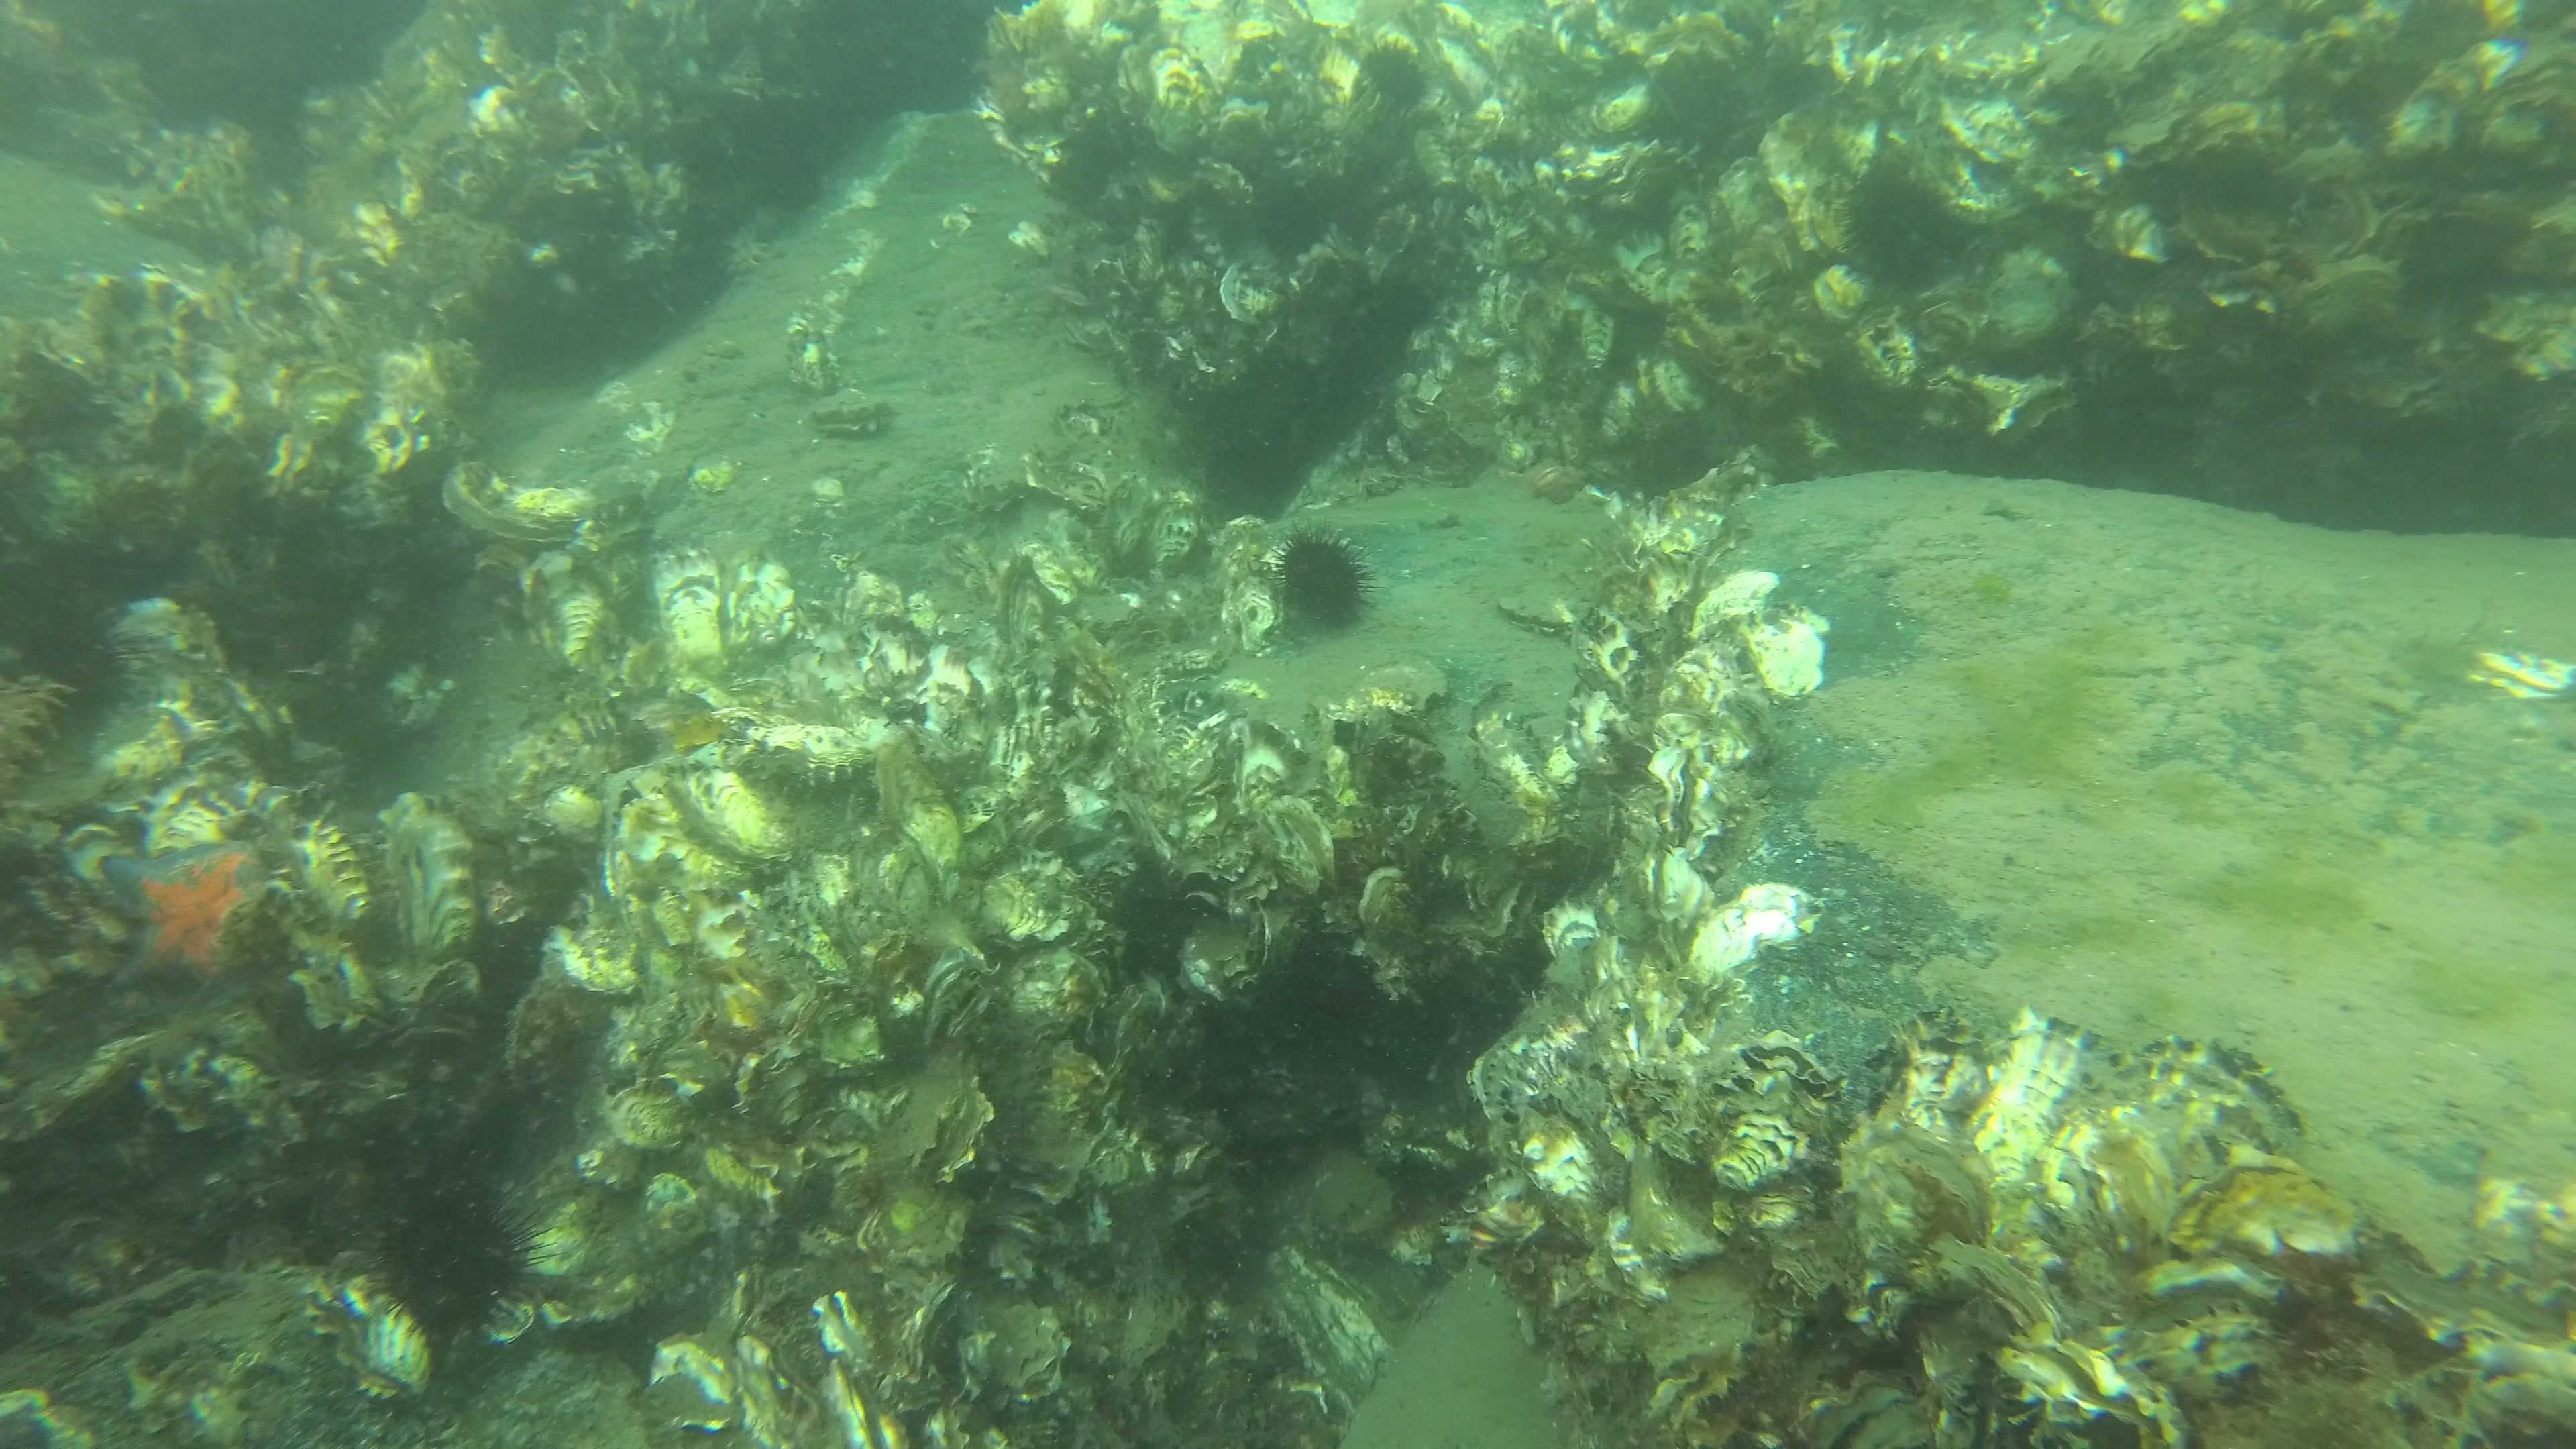echinus: (368, 1184, 536, 1343), (1272, 529, 1373, 628)
starfish: (101, 847, 272, 989)
